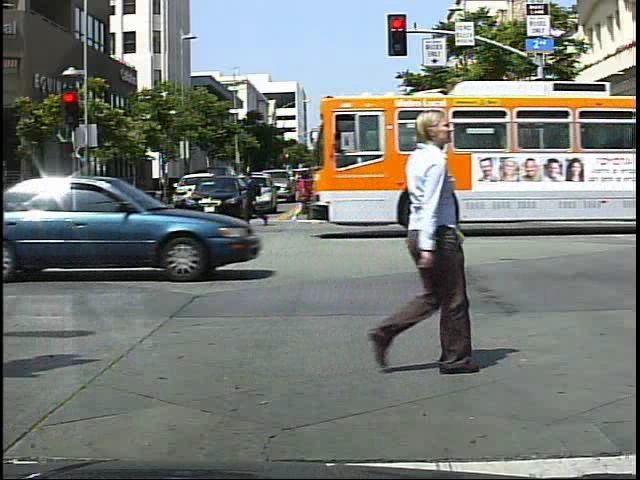person: (352, 81, 481, 381), (330, 164, 362, 228), (243, 166, 271, 226), (290, 166, 314, 230), (550, 160, 573, 211)
